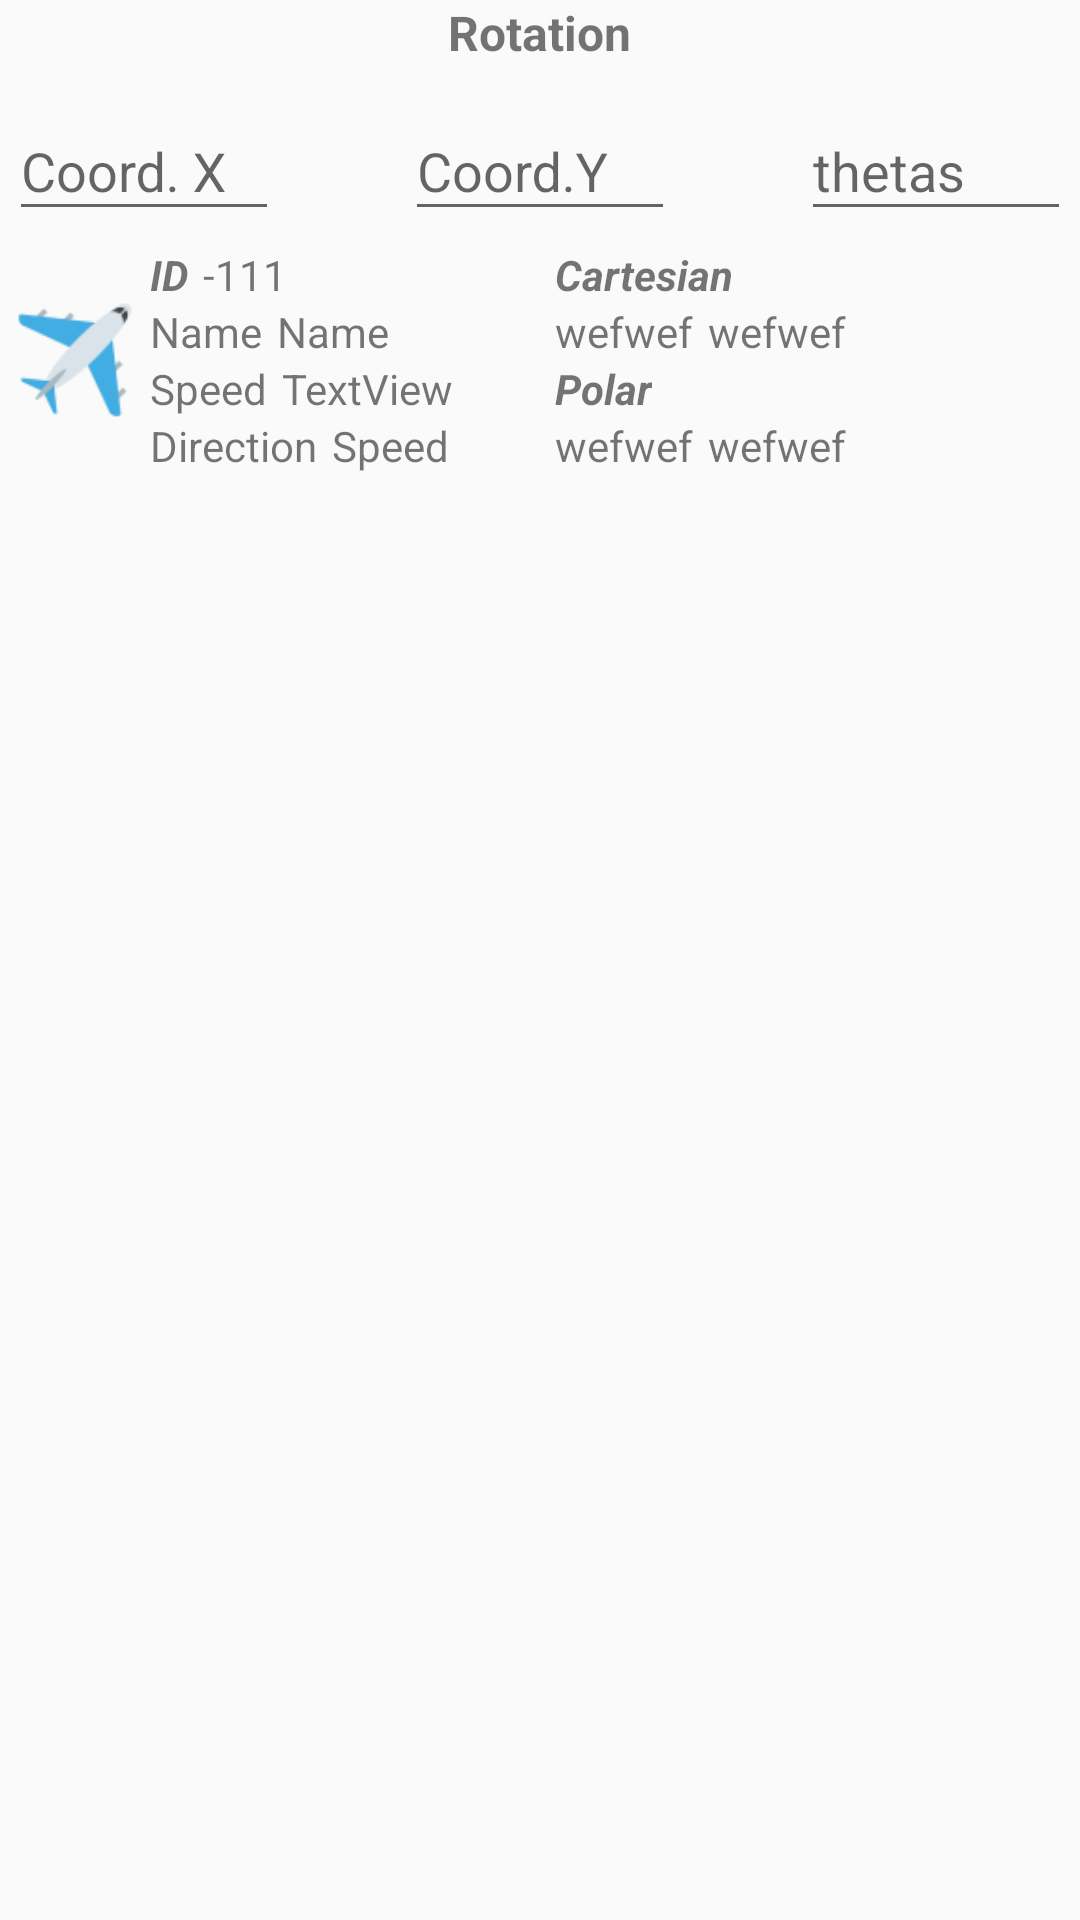

Screen size 1080 x 1920. Icon name, then its box in pixels as (x1, y1, x2, y2):
airplane top: (18, 304, 131, 417)
